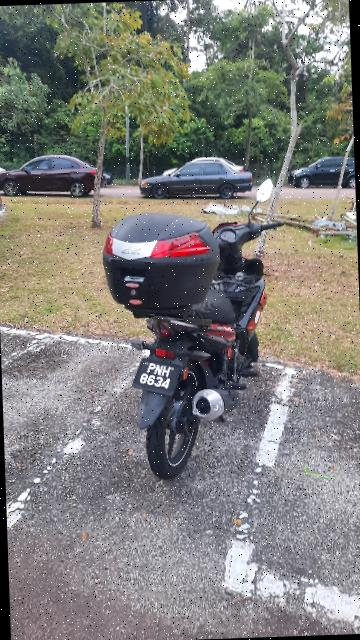License_Plate: (136, 358, 183, 403)
car: (1, 144, 110, 200), (139, 159, 258, 206)
motorcycle: (99, 174, 298, 488)
